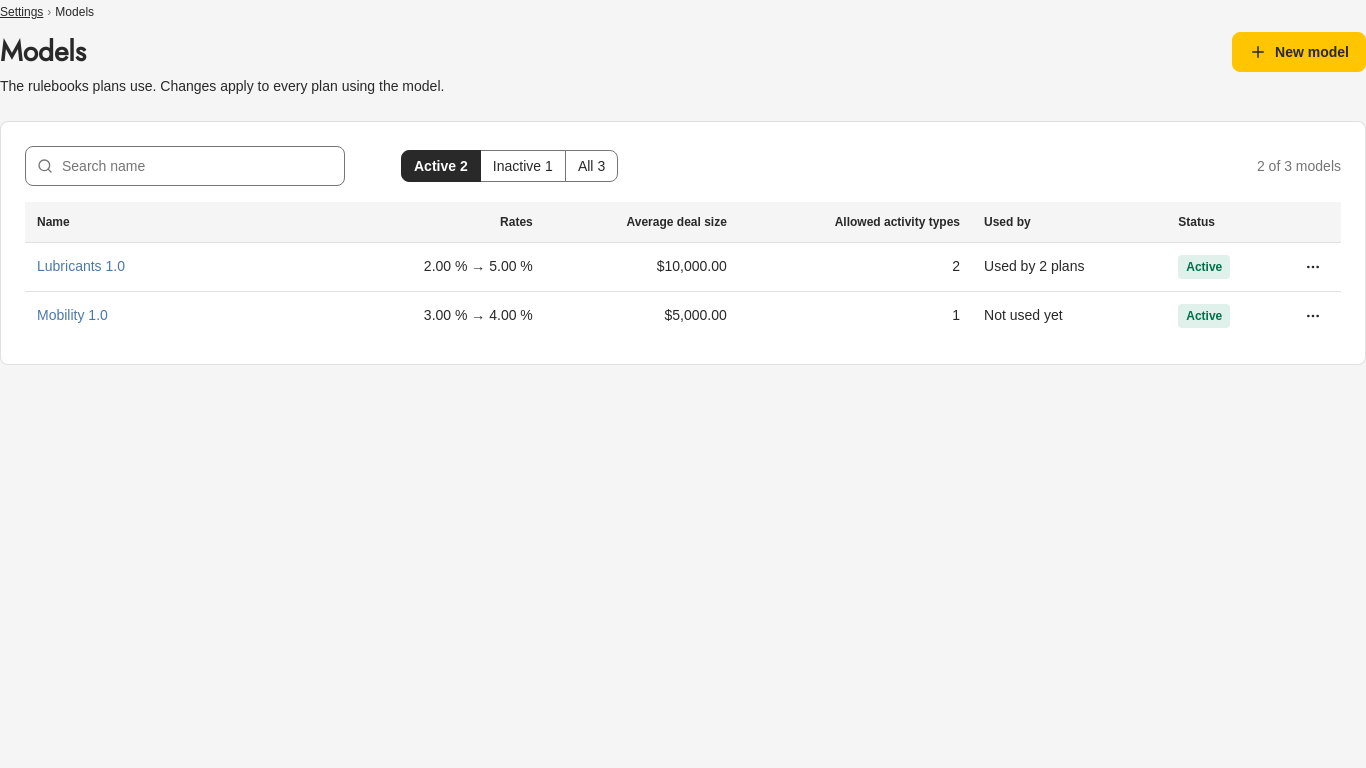
ModelsPage: status and delete (US1 scenario 7, FR-004) › switches to the in-use dialog when the API finds the model in use
This screenshot has width=1366, height=768.
expect the table is shown: met, box left=25, top=202, right=1341, bottom=340
Click the button named "Actions for Mobility 1.0".
click(1313, 316)  # box left=1297, top=300, right=1329, bottom=332
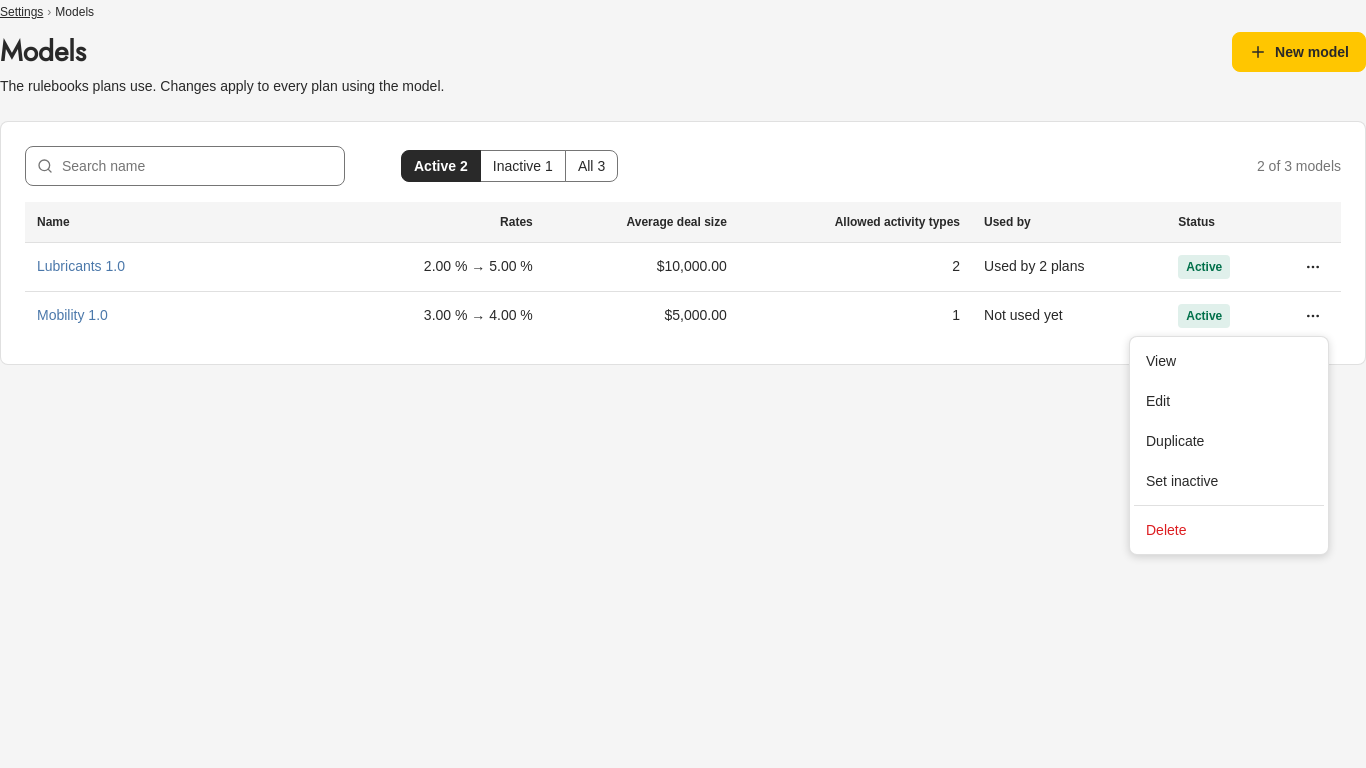
Click the menu item "Delete".
click(1166, 530)  # box left=1146, top=522, right=1186, bottom=538
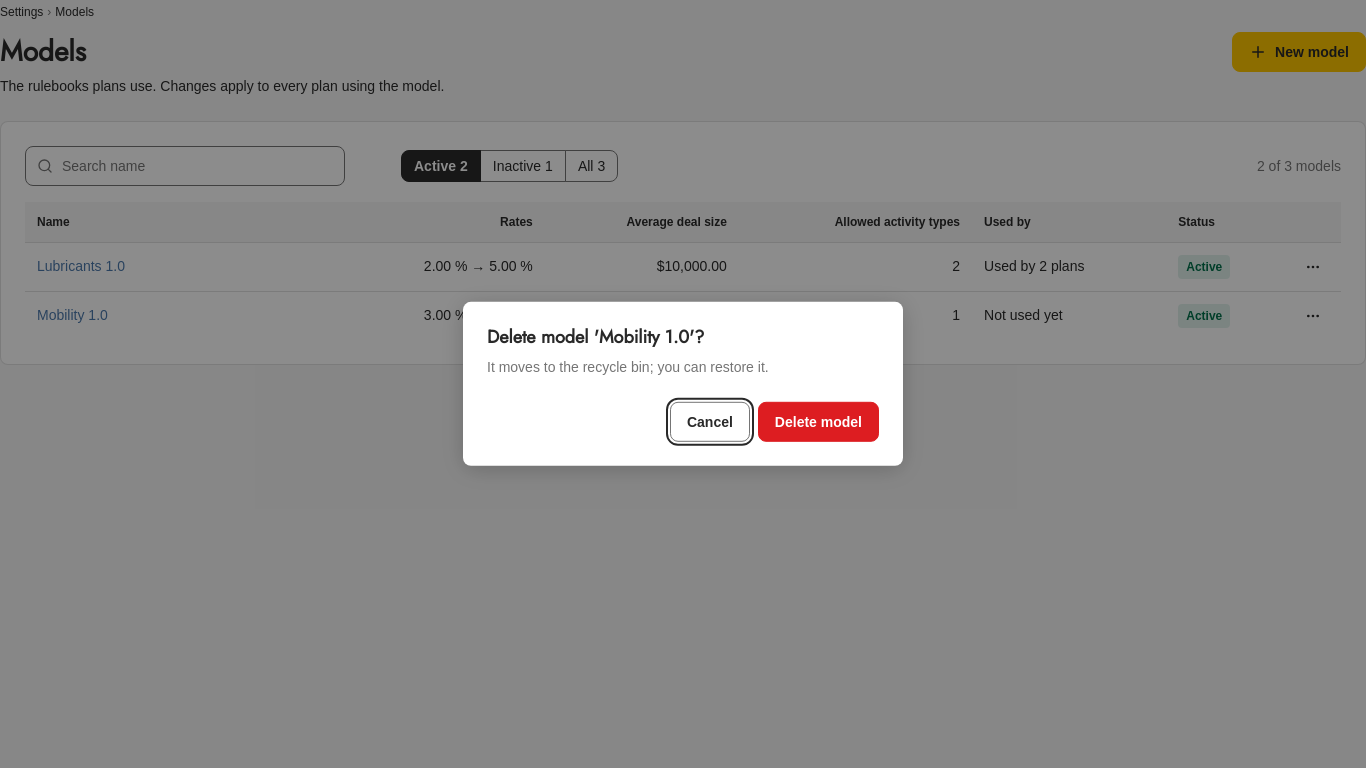
Click the button "Delete model".
click(818, 422)  # box left=758, top=402, right=879, bottom=442
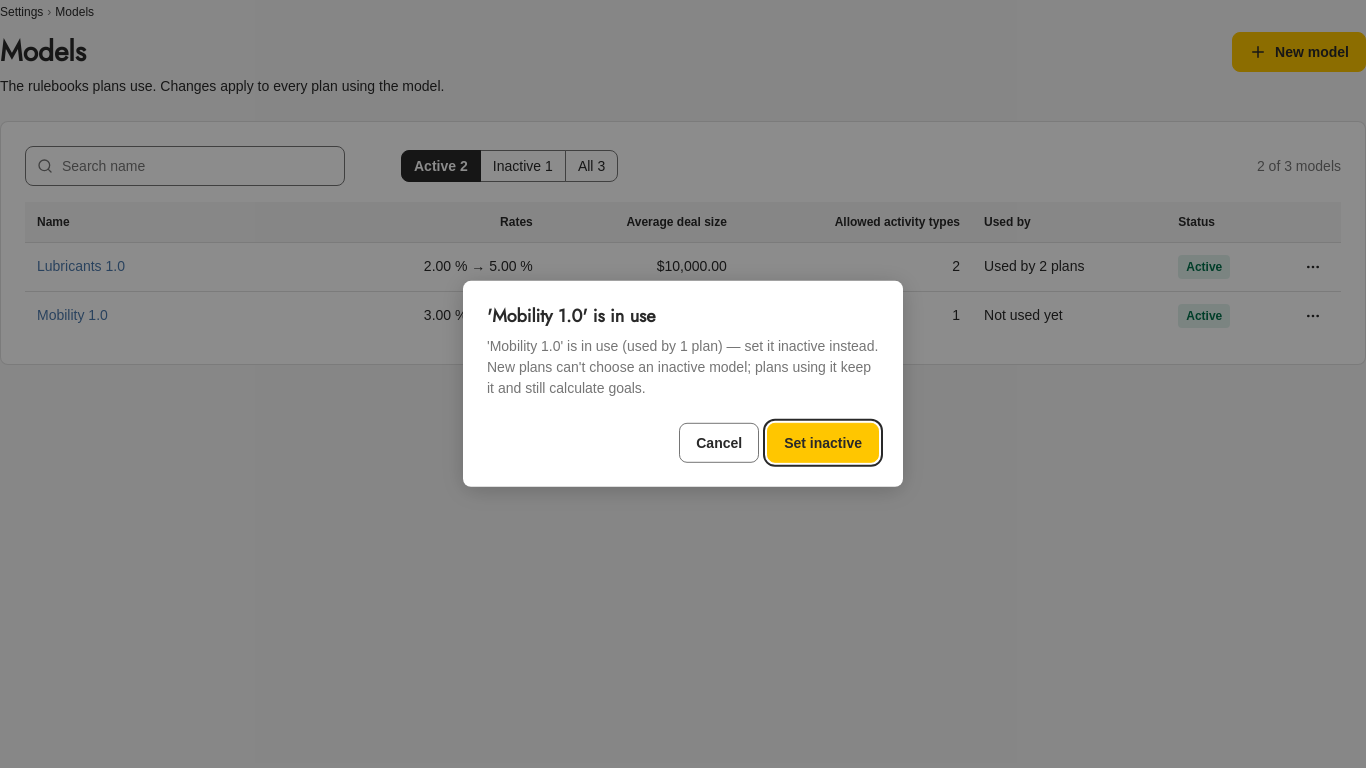
expect the dialog "'Mobility 1.0' is in use" shows "'Mobility 1.0' is in use (used by 1 plan) — set it inactive instead.": met, box left=487, top=338, right=878, bottom=396
expect the button "Set inactive" is shown: met, box left=767, top=423, right=879, bottom=463
